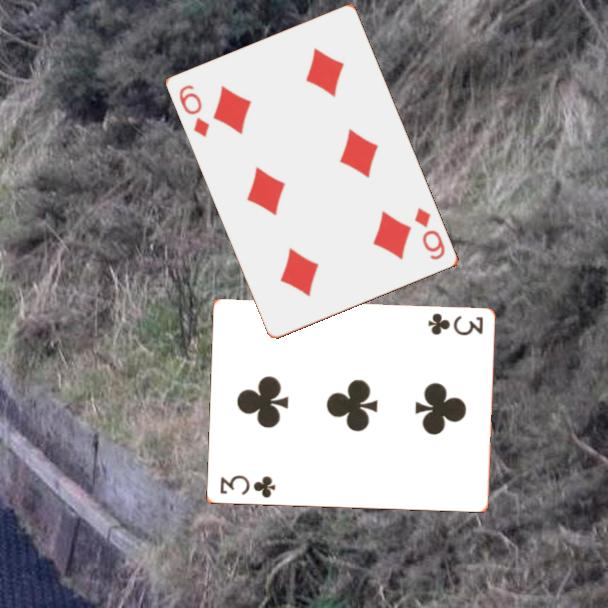c03: (216, 472, 278, 501), (424, 310, 486, 339)
d06: (411, 204, 448, 263), (176, 81, 213, 140)
